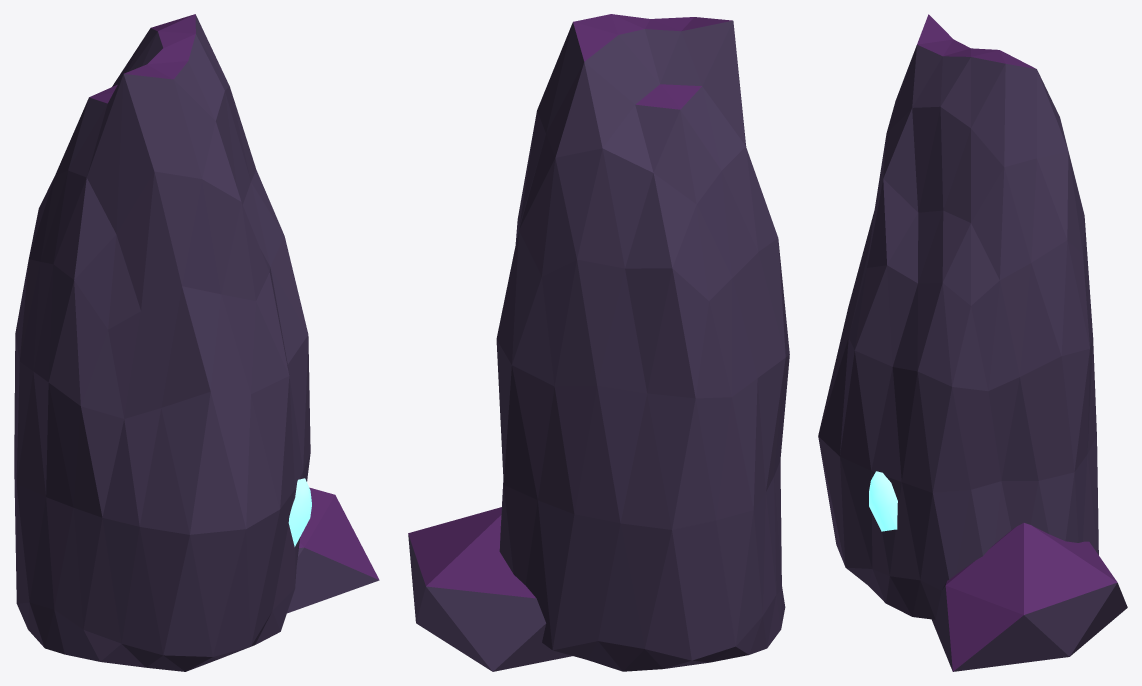
The model's file is W4_CaveRock_B.fbx.
The picture shows the model from 3 angles, left to right: view 1: azimuth 30°, elevation 25°; view 2: azimuth 150°, elevation 25°; view 3: azimuth 270°, elevation 25°; orthographic projection. The views are drawn at different scales.
Visible parts, largest first — view 1: W4_CaveRock_B; view 2: W4_CaveRock_B; view 3: W4_CaveRock_B.
Part boxes in pixels (<box>): W4_CaveRock_B: <box>14,14,379,671</box>; W4_CaveRock_B: <box>408,14,789,671</box>; W4_CaveRock_B: <box>818,14,1127,671</box>.
Bounding box in the file's own units: 3.02 × 5.07 × 2.64.
